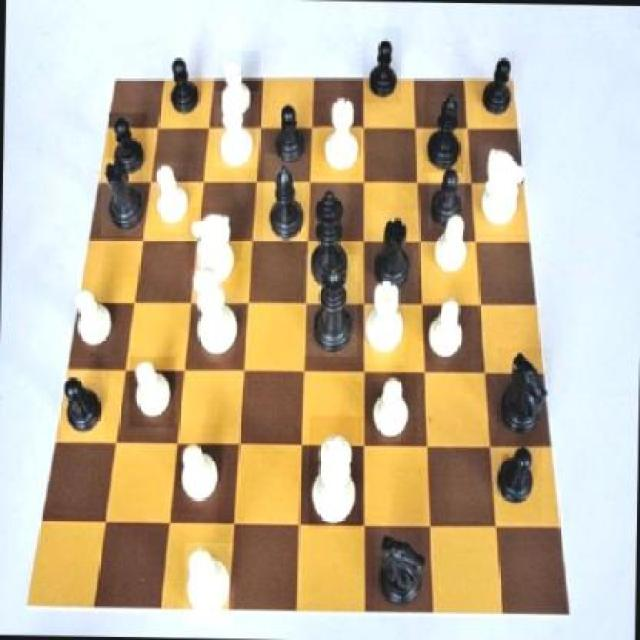bishop: (263, 154, 308, 243), (423, 84, 464, 174)
black-bishop: (304, 184, 354, 296)
black-king: (496, 348, 552, 444), (374, 526, 434, 614)
black-knight: (491, 437, 542, 521), (60, 368, 106, 442), (362, 27, 401, 104), (271, 100, 313, 169), (163, 49, 203, 119), (478, 51, 514, 124), (108, 114, 147, 178), (428, 163, 464, 229)
black-pawn: (303, 254, 359, 357)
black-queen: (372, 209, 420, 303), (100, 159, 146, 236)
black-rook: (183, 543, 234, 628), (214, 91, 260, 168)
white-bishop: (308, 416, 363, 530)
white-king: (477, 143, 529, 234), (188, 206, 245, 289)
white-knight: (174, 424, 223, 518), (71, 283, 121, 359), (128, 357, 174, 429), (371, 376, 417, 446), (150, 163, 192, 234), (426, 298, 472, 362), (431, 208, 472, 278), (218, 51, 260, 118)
white-pawn: (188, 266, 243, 366)
white-queen: (363, 274, 408, 366), (318, 91, 362, 180)
